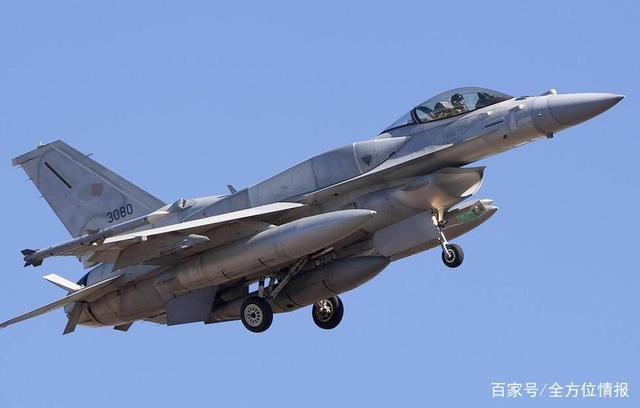airplane: (2, 78, 631, 355)
